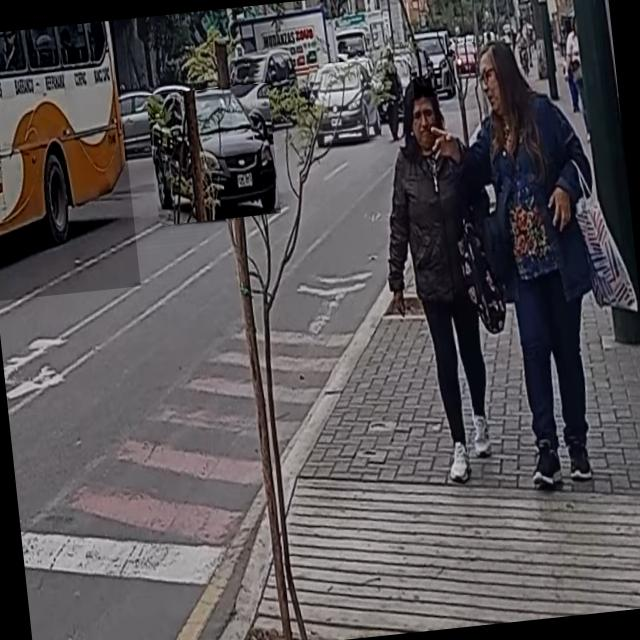bicycle: (308, 59, 381, 145)
bus: (0, 20, 140, 300)
car: (146, 82, 280, 226), (225, 47, 302, 127), (408, 31, 456, 98), (454, 42, 479, 78)
